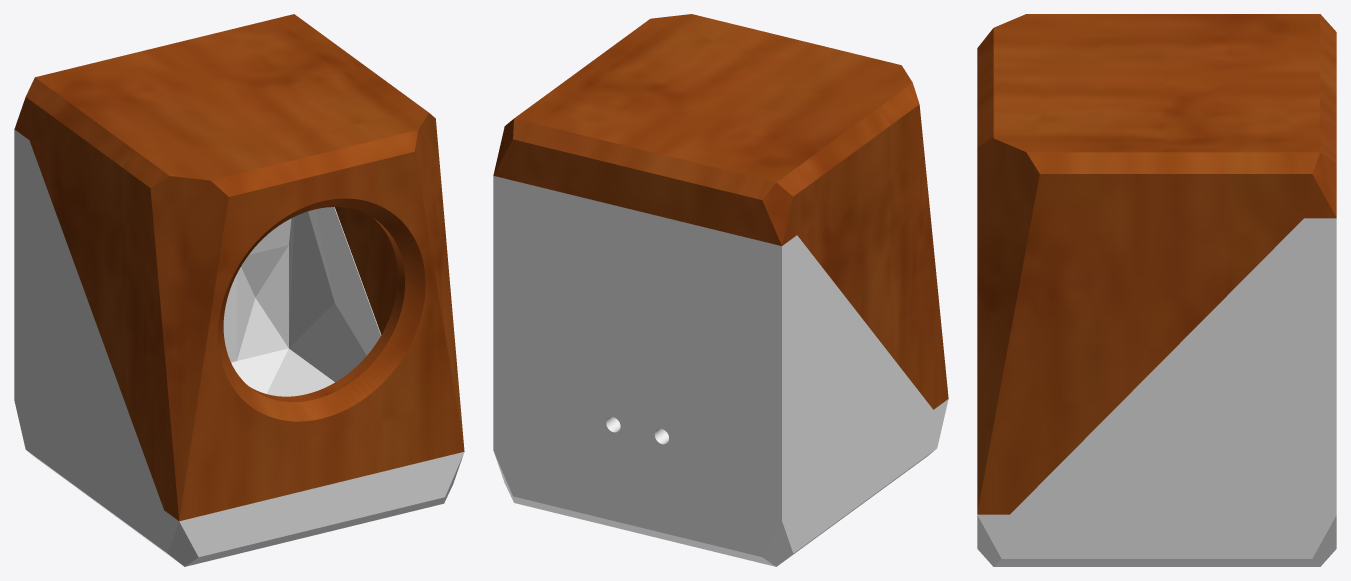
File: 3inSpeakersV2.gltf
The picture shows the model from 3 angles, left to right: view 1: azimuth 30°, elevation 25°; view 2: azimuth 150°, elevation 25°; view 3: azimuth 270°, elevation 25°; orthographic projection. The views are drawn at different scales.
Visible parts, largest first — view 1: Housing, Base; view 2: Base, Housing; view 3: Housing, Base.
Part boxes in pixels (bbox=[...]): Housing: bbox=[14, 14, 464, 521]; Base: bbox=[14, 129, 464, 566]; Base: bbox=[493, 176, 948, 566]; Housing: bbox=[493, 14, 948, 409]; Housing: bbox=[977, 14, 1336, 514]; Base: bbox=[977, 218, 1336, 566].
Bounding box in the file's own units: 0.11 × 0.14 × 0.11.
467 materials, 355 textured.
